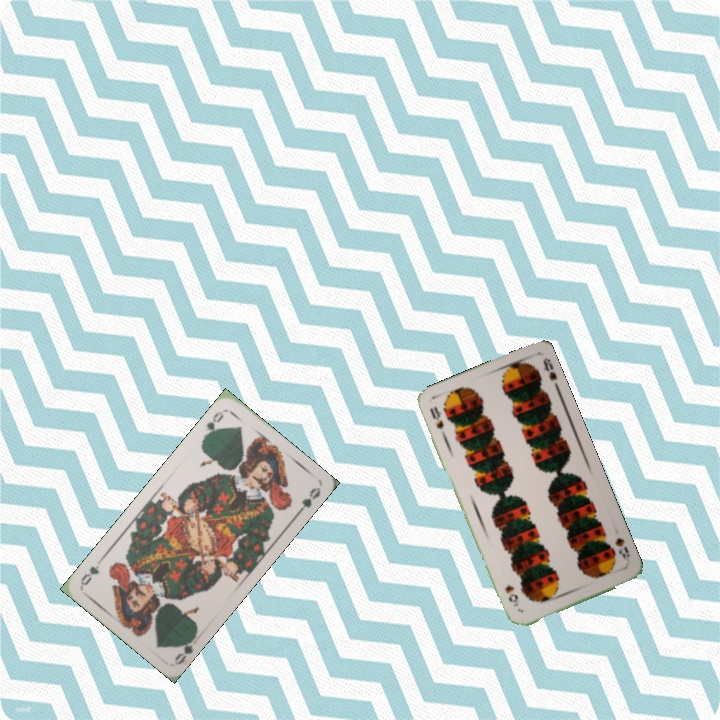GO: (170, 629, 199, 666), (199, 407, 227, 442)
S8: (426, 403, 448, 440), (611, 533, 633, 565)
